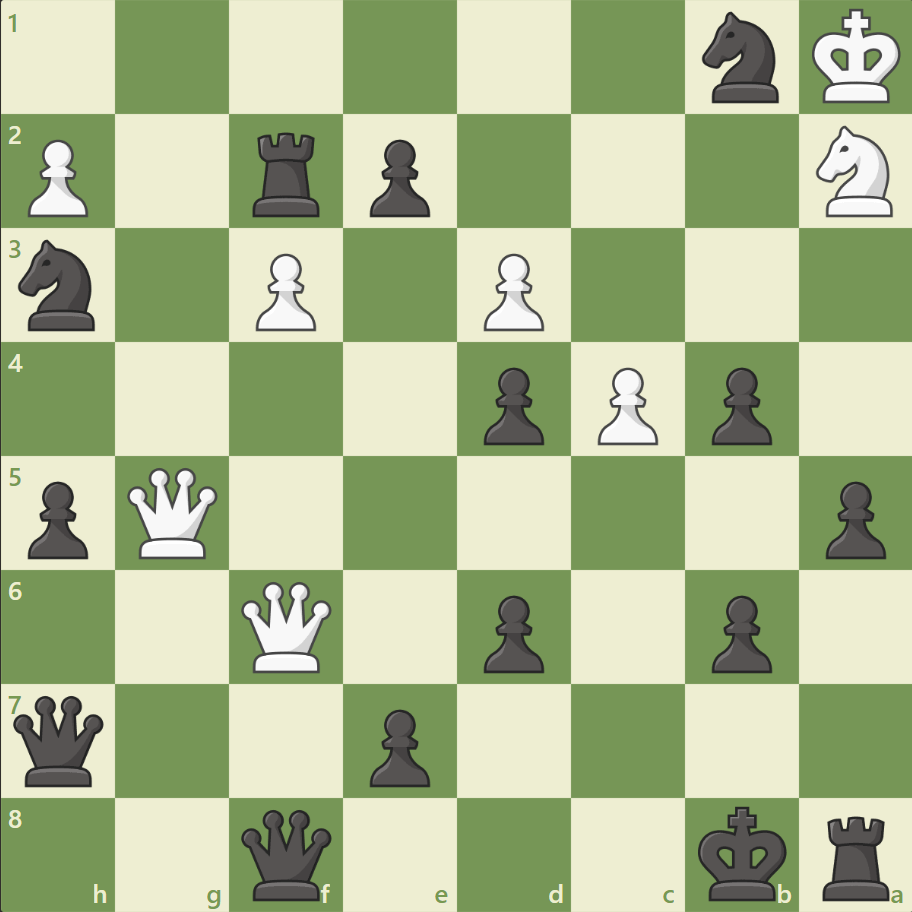K: (806, 4, 906, 112)
N: (806, 121, 903, 223)
P: (474, 246, 549, 337), (247, 246, 322, 337), (20, 132, 95, 223), (588, 359, 662, 450)
Q: (237, 576, 336, 676), (124, 463, 223, 562)
k: (692, 798, 792, 906)
n: (11, 234, 108, 337), (692, 7, 789, 110)
p: (701, 586, 776, 677), (474, 586, 549, 677), (20, 473, 95, 564), (701, 359, 776, 450), (474, 359, 549, 450), (361, 700, 435, 791), (815, 473, 889, 564), (361, 132, 435, 223)
q: (237, 804, 336, 903), (10, 690, 109, 789)
r: (814, 806, 897, 904), (246, 125, 329, 222)
